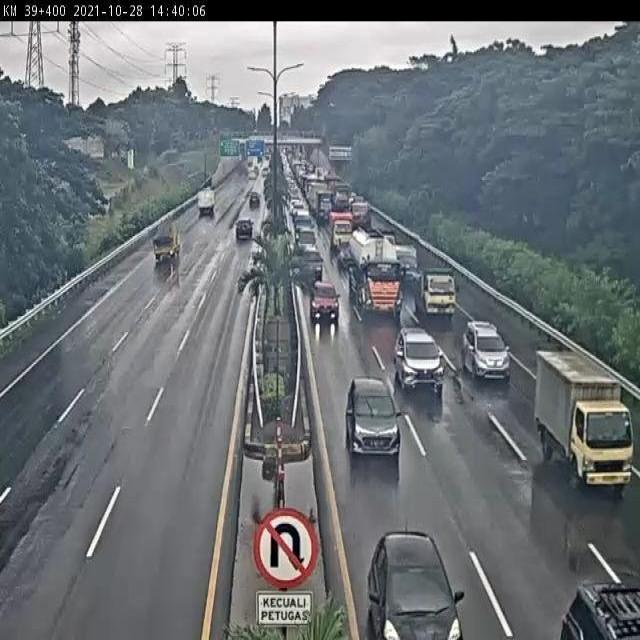car: (344, 377, 400, 455), (392, 324, 445, 389), (462, 319, 512, 381), (310, 282, 339, 318), (299, 245, 324, 279), (296, 225, 317, 252), (236, 217, 254, 240)
mid truck: (247, 190, 264, 210)
small truck: (147, 228, 181, 268)
truck-m-: (418, 269, 459, 320)
truck-s-: (533, 349, 632, 488), (397, 245, 422, 280)
truck-xl-: (350, 228, 405, 313)
